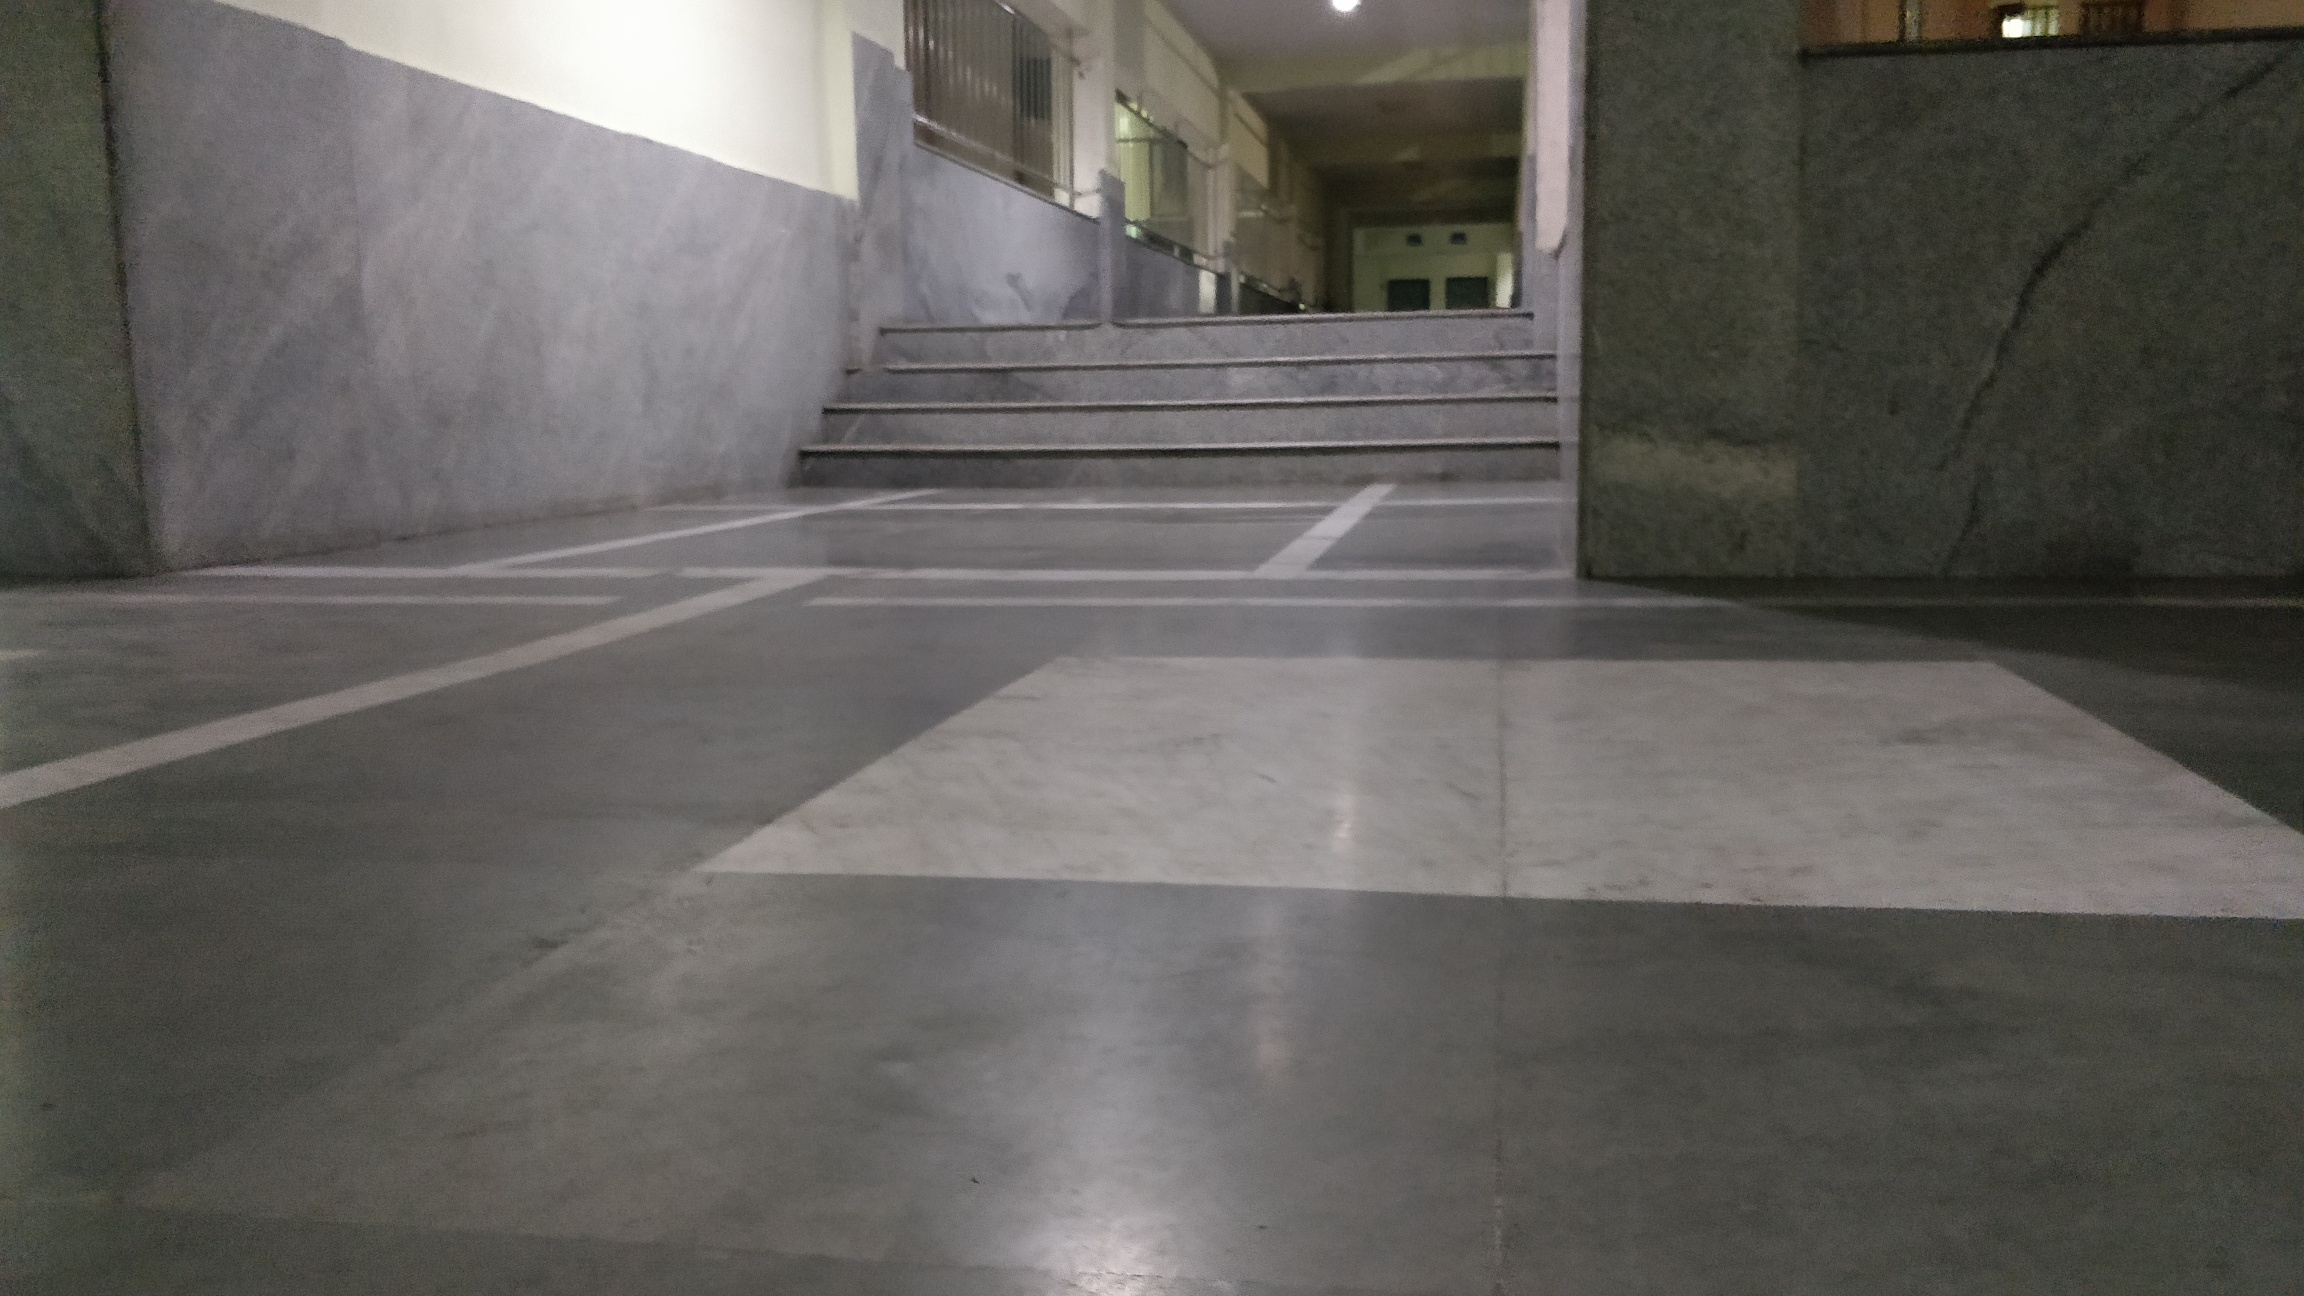stairs_up: (804, 312, 1554, 483)
